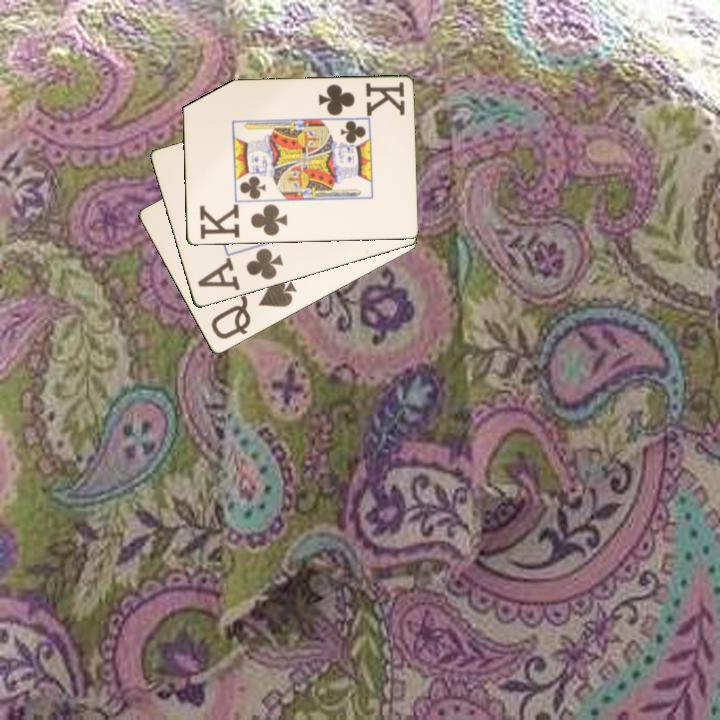Ac: (194, 245, 286, 294)
Kc: (195, 201, 290, 242), (314, 79, 407, 119)
Qs: (207, 276, 300, 343)
